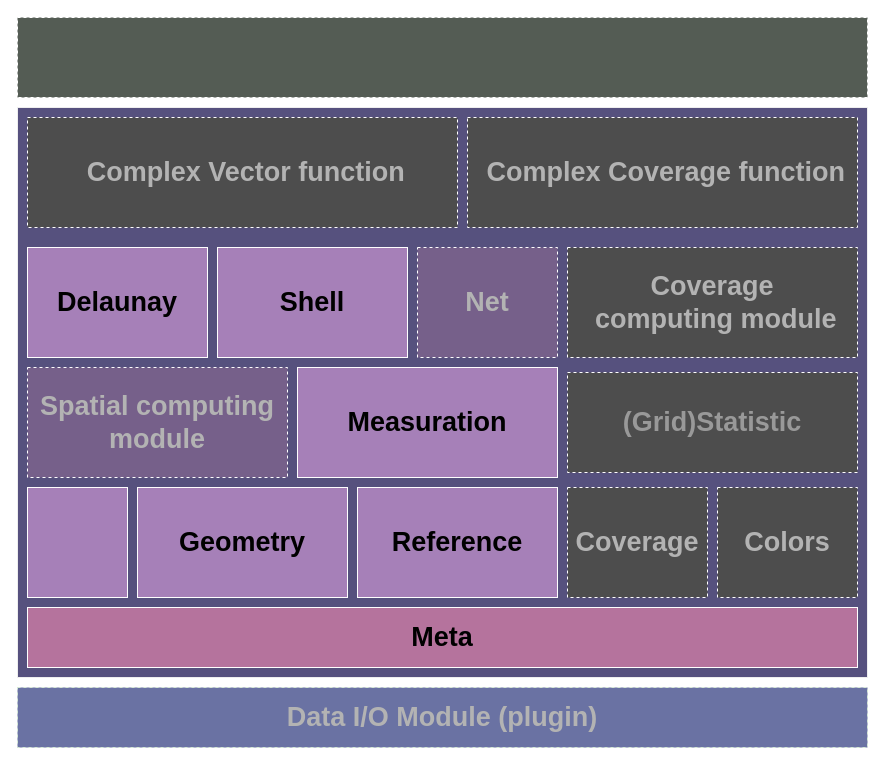
The diagram is 885 pixels wide and 765 high, and some of its shapes have lost their labels. Each missing label, with the centre of its shape:
Renderer Engine (plugin): point (442, 57)
Unit: point (77, 542)
